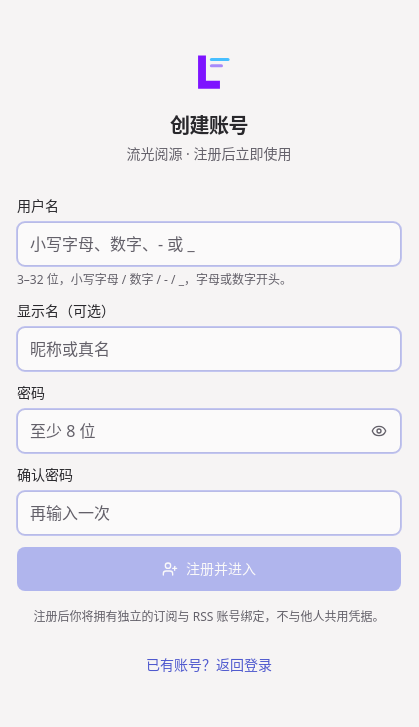
Test: 渲染与本地校验（不发请求） › 短密码 → 本地错误（服务端仍是权威校验）
Type "newbie" into the field labelled "用户名" at (209, 244), box [17,222,401,266]
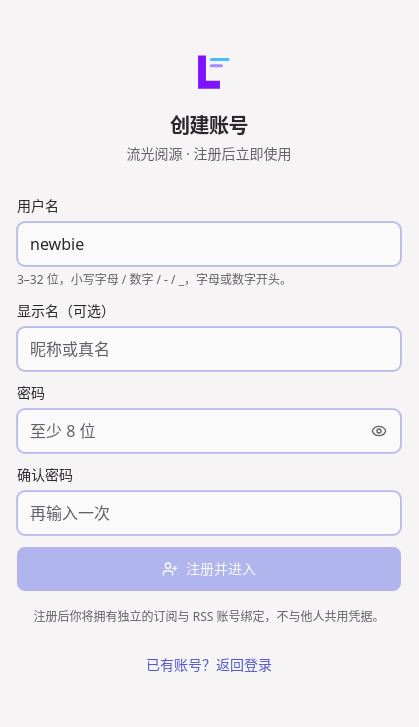
Type "short" into the password field labelled "密码" at (209, 431), box [17,409,401,453]
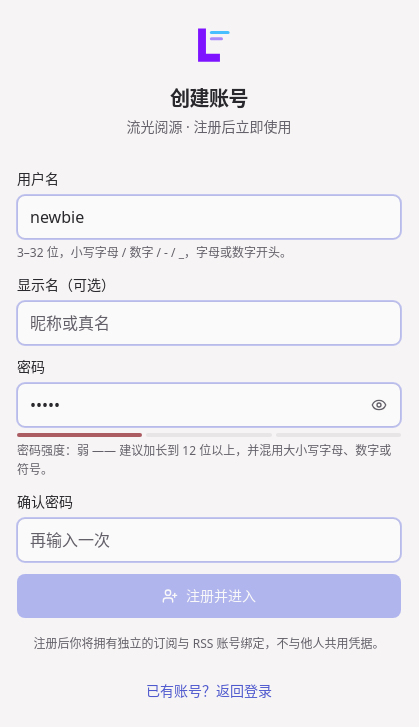
Type "short" into the password field labelled "确认密码" at (209, 540), box [17,518,401,562]
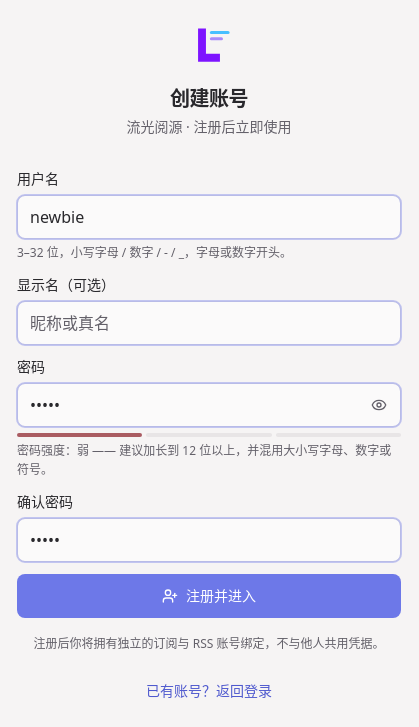
Click the button "注册并进入" at (209, 596), box [17,574,401,618]
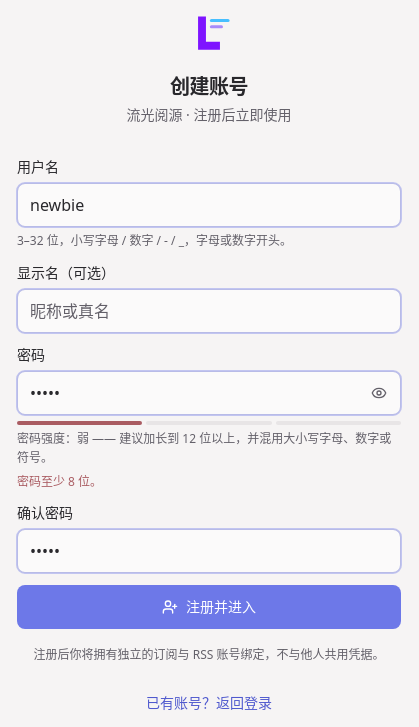
Check: the text "密码至少 8 位。" is shown, box [17,473,102,490]
